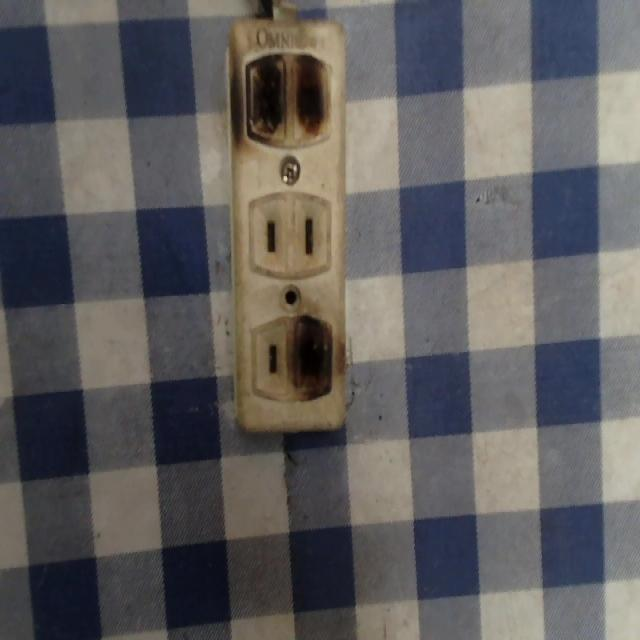-: (236, 42, 336, 150), (288, 314, 346, 406)
